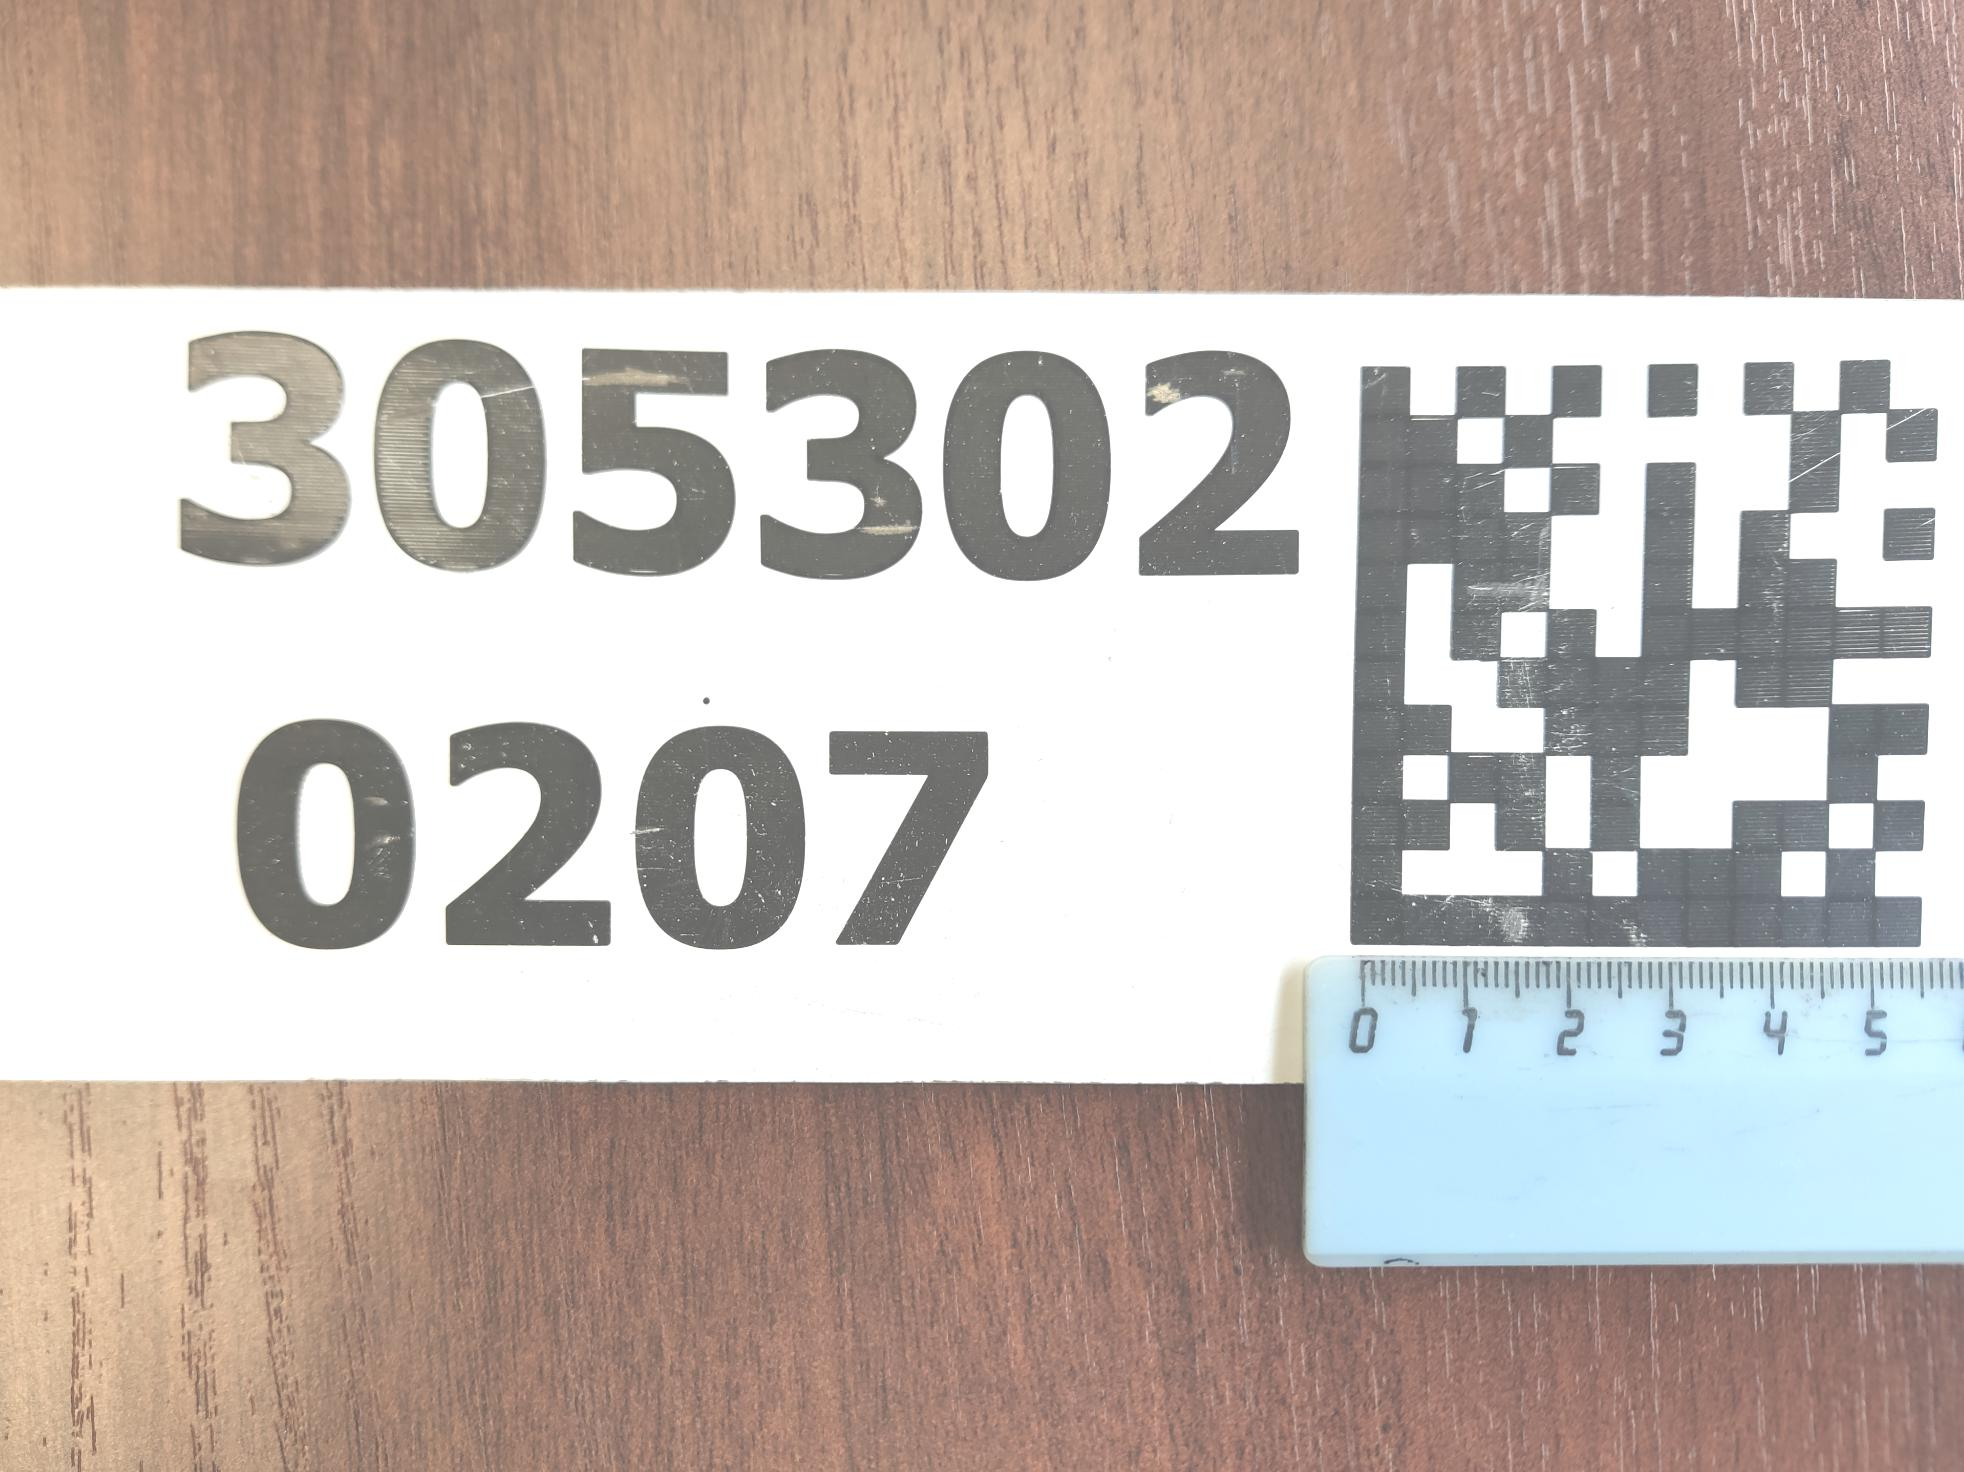data matrix: (1331, 349, 1964, 966)
